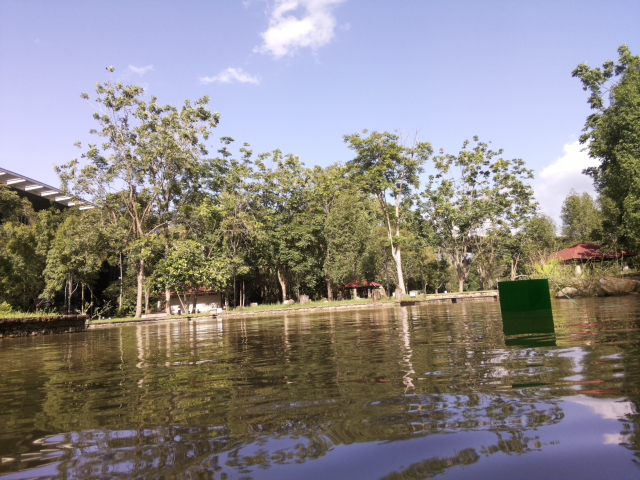obstacle: (497, 278, 553, 316)
